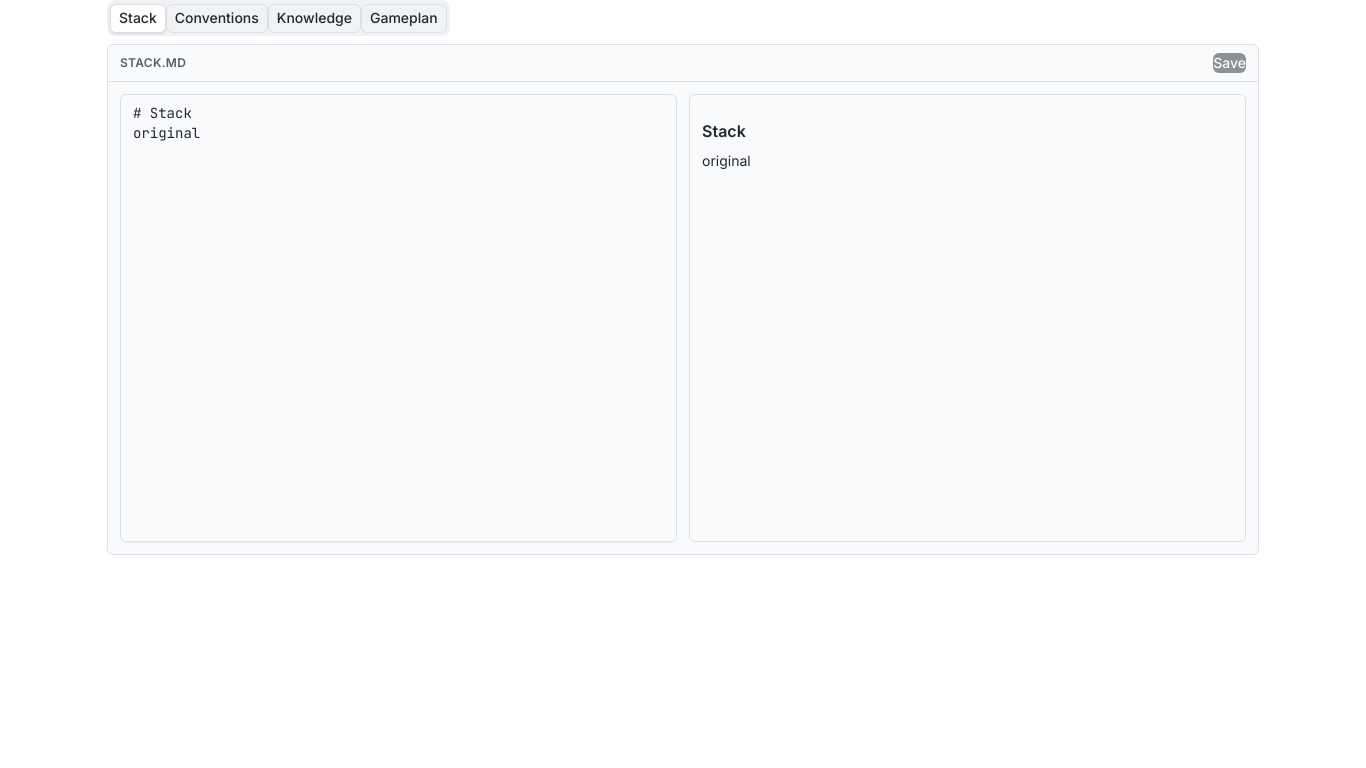
Test: VaultPage › suppresses the banner for the just-saved section inside the window
Type " edited" into the text box named "stack source" at (398, 318), box [120, 94, 677, 542]
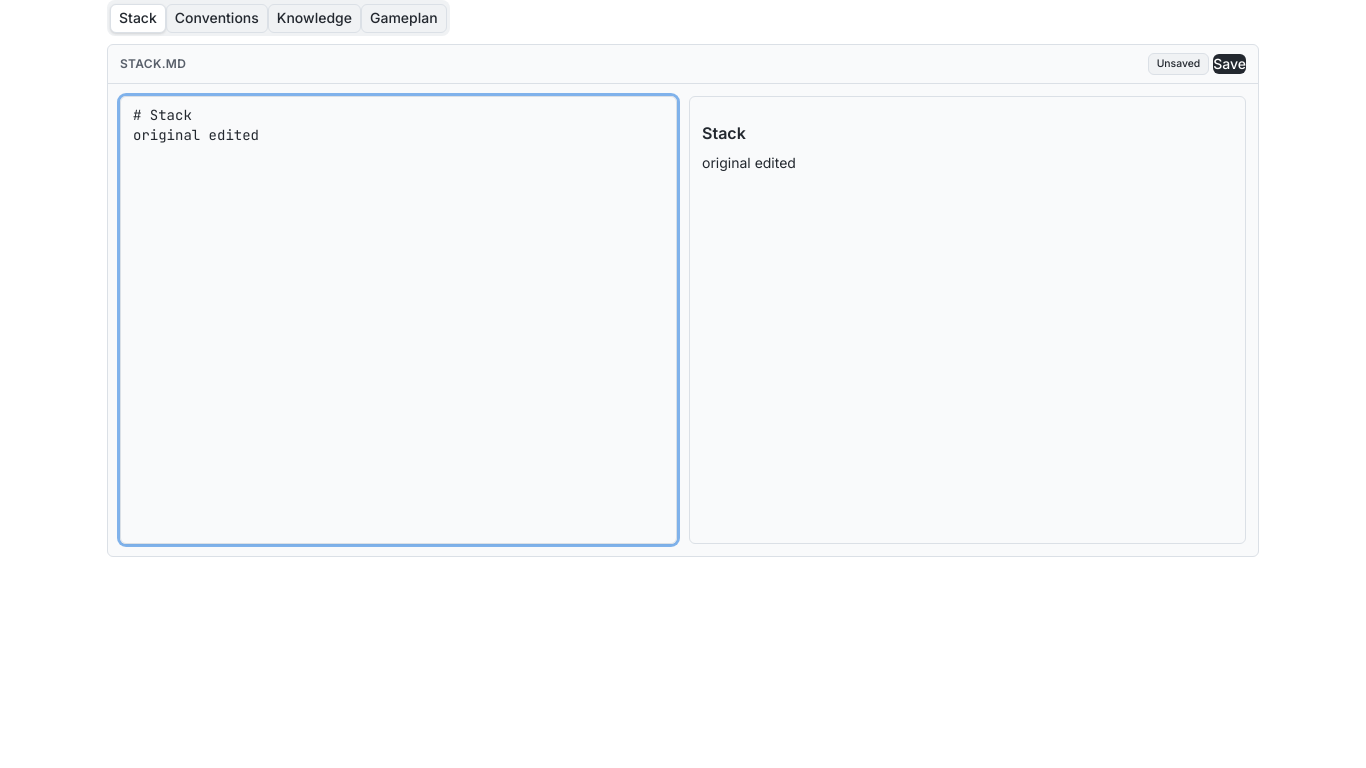
Click the button "Save" at (1230, 64), box [1213, 54, 1246, 74]
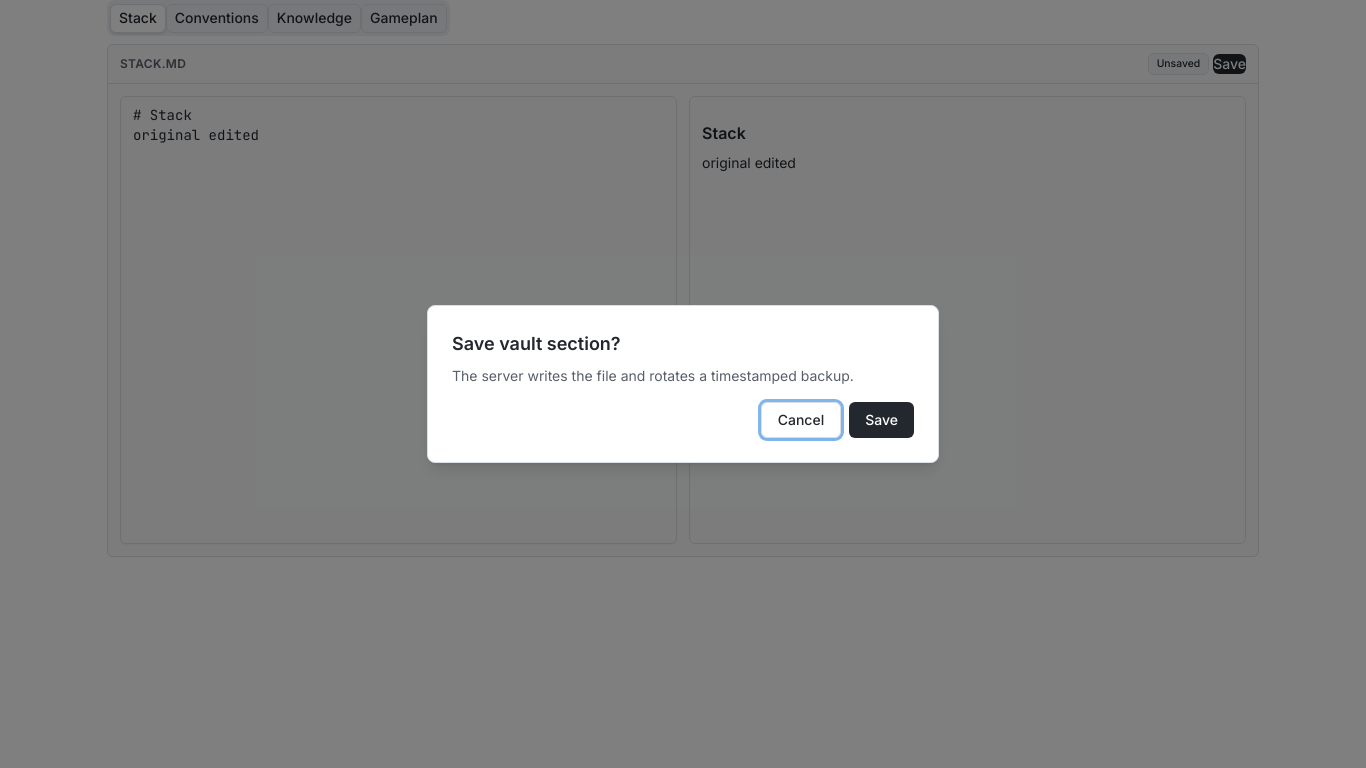
Click the button "Save" at (882, 420), box [849, 402, 914, 438]
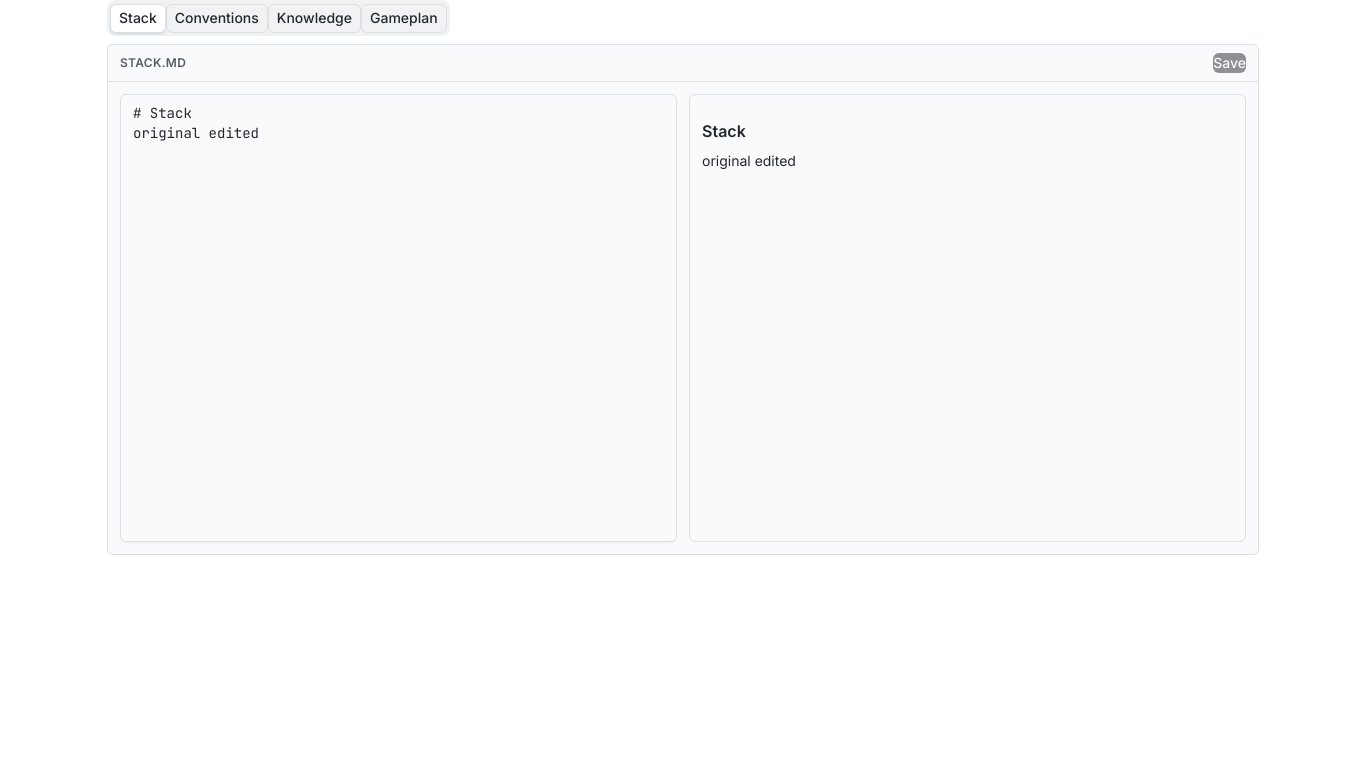
Result: the text "Unsaved" is gone
